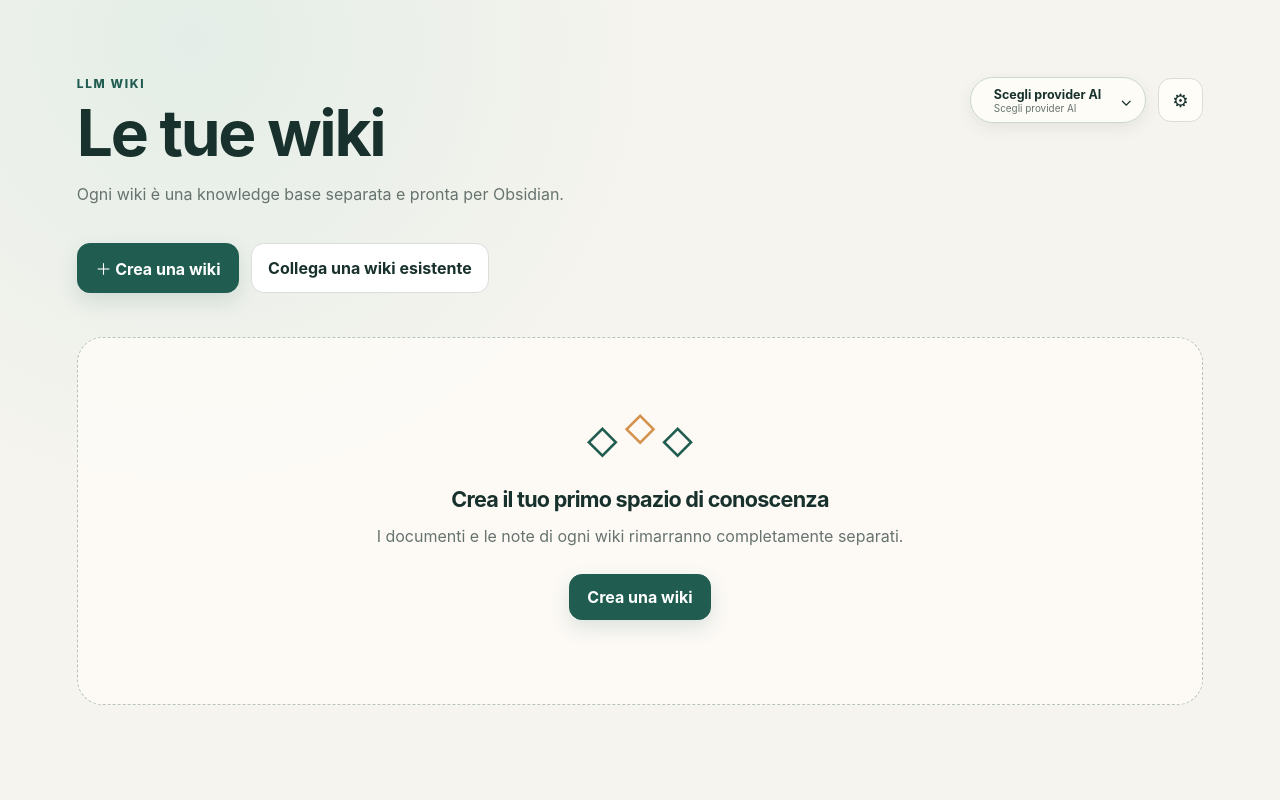
Test: App › localizes registry error forbidden_root without losing the form
Click the button "＋ Crea una wiki" at (158, 268), box [77, 243, 239, 293]
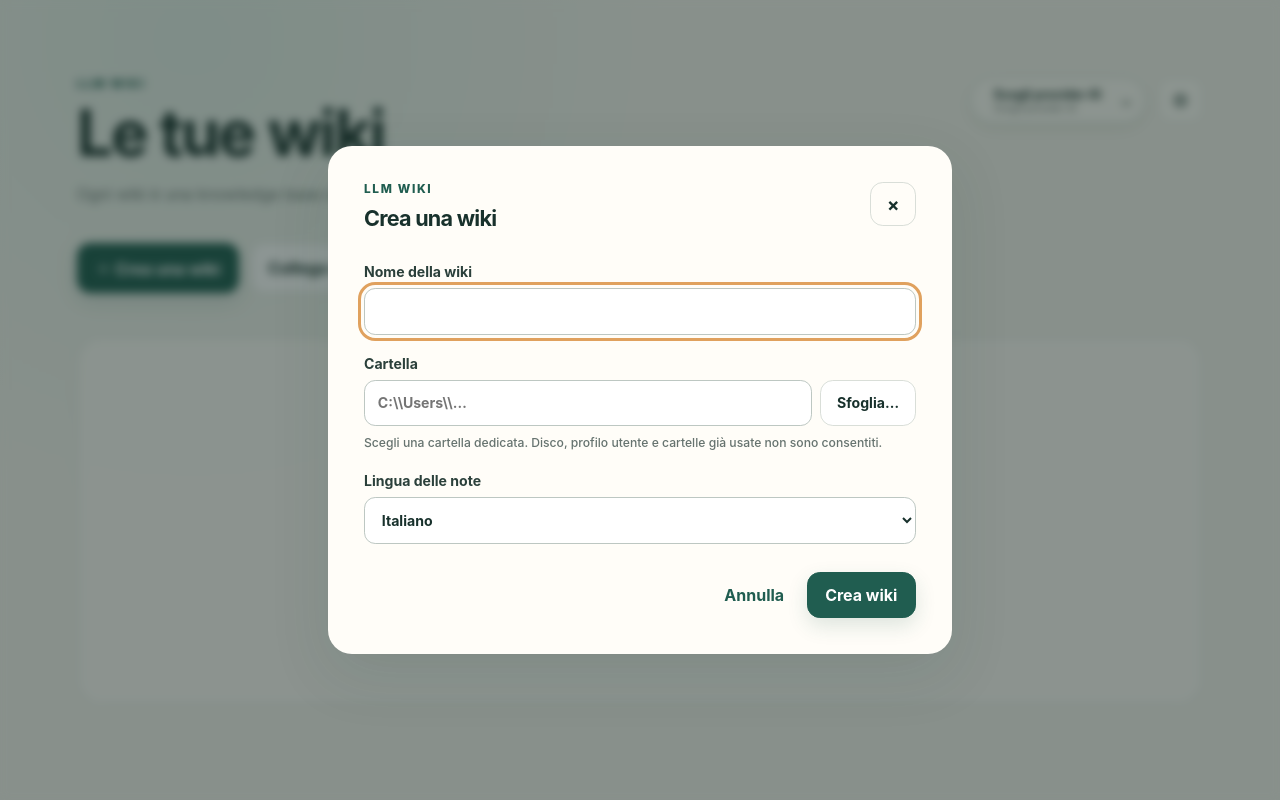
Type "Test" into the field labelled "Nome della wiki" at (640, 311), box [364, 288, 916, 335]
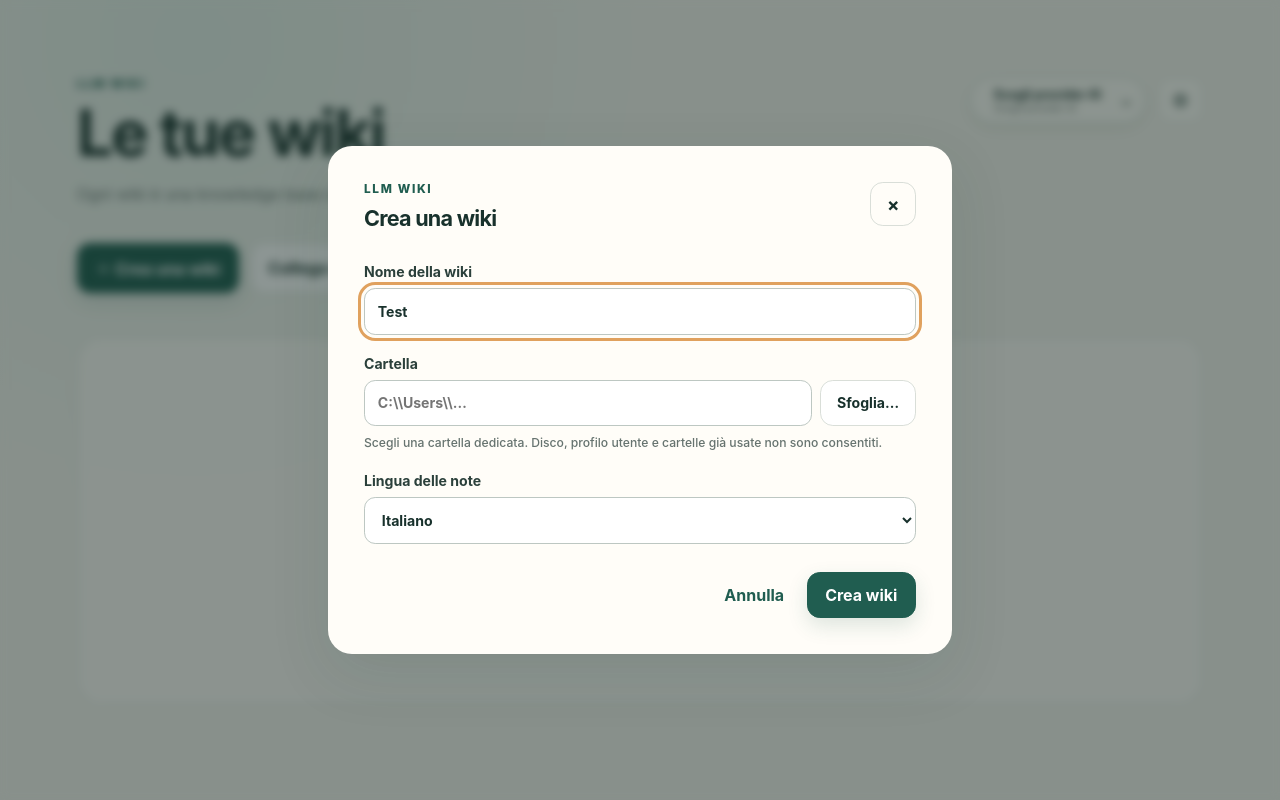
Type "C:\\Synthetic\\Test" into the field labelled "Cartella" at (588, 403), box [364, 380, 812, 426]
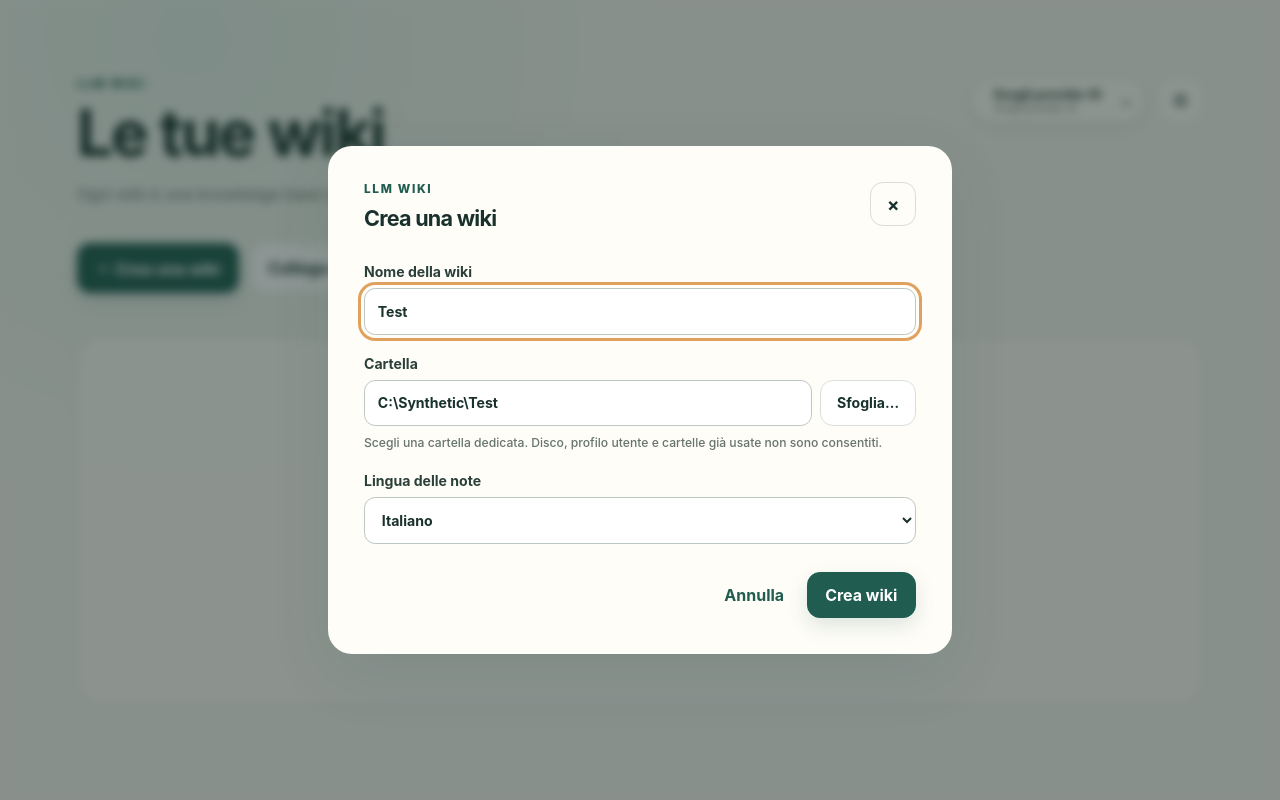
Click the button "Crea wiki" at (861, 595), box [806, 572, 916, 618]
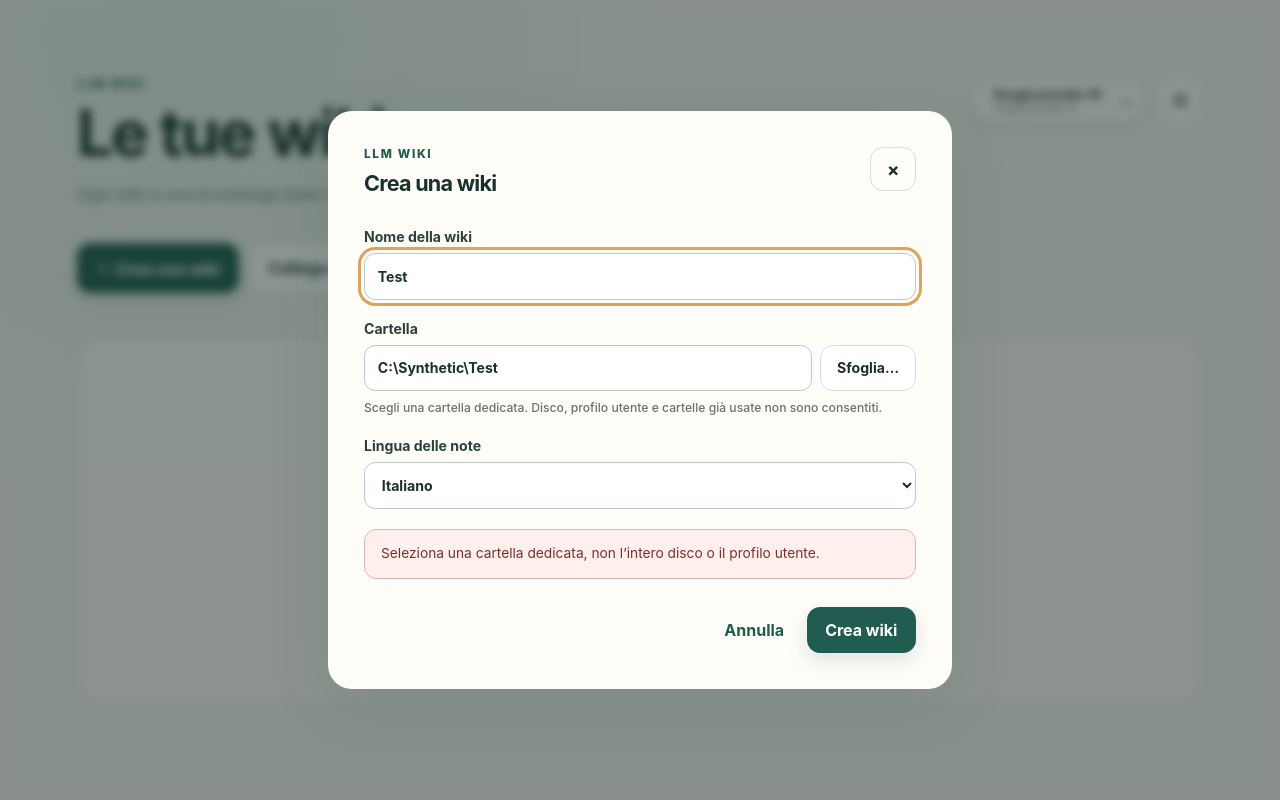
expect the dialog is shown: met, box [328, 112, 952, 688]
expect the message shows "Seleziona una cartella dedicata": met, box [381, 545, 820, 561]
